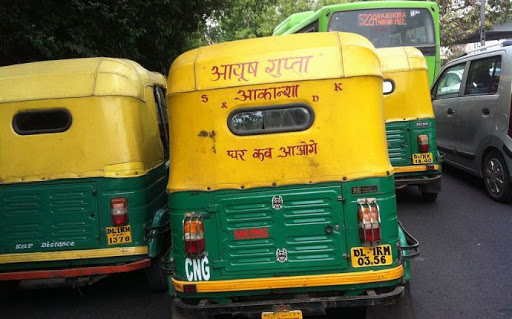doublelinenumberplate: (349, 244, 394, 269)
